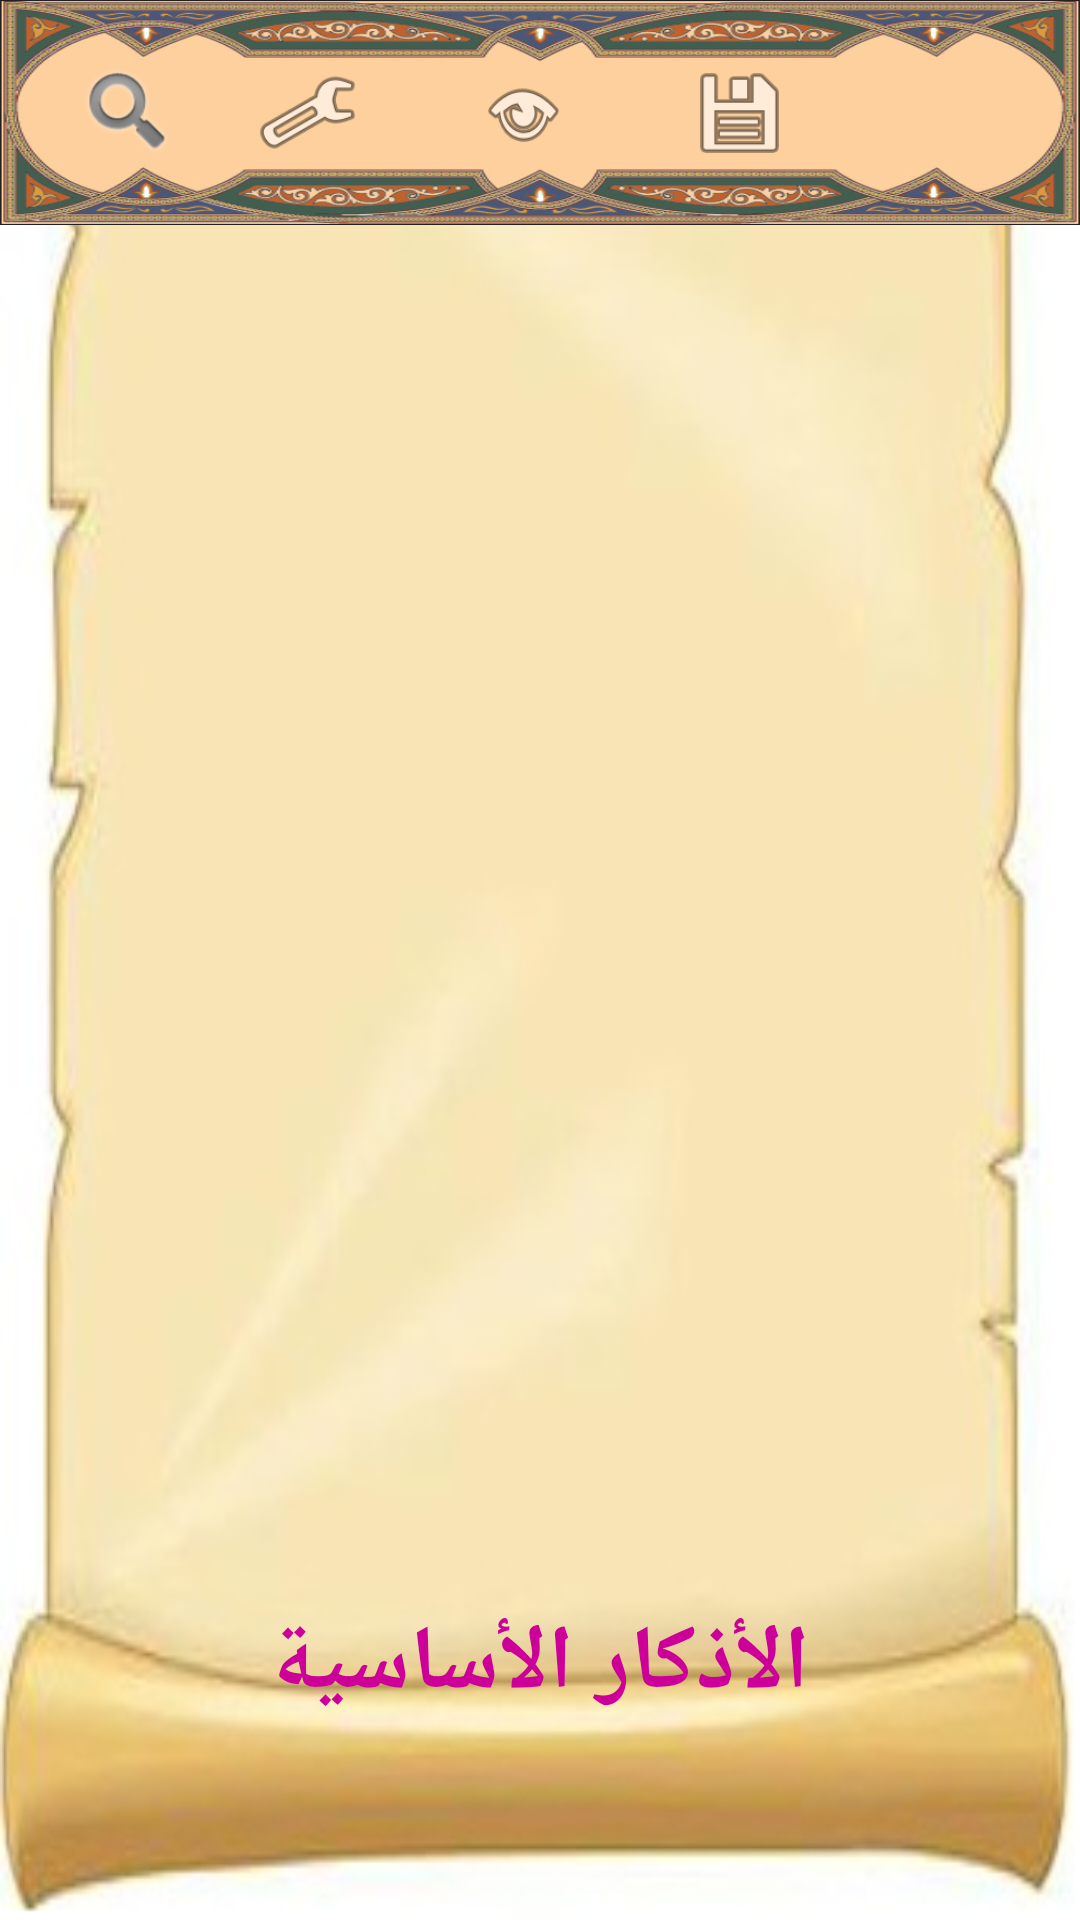

Locate icon controls on the screen. Image size 1080px×1920px, boxes as bbox=(x1, y1, x2, y2).
manage: bbox=(260, 76, 355, 149)
save: bbox=(700, 73, 779, 153)
search category: bbox=(89, 73, 165, 149)
view: bbox=(488, 88, 559, 142)
